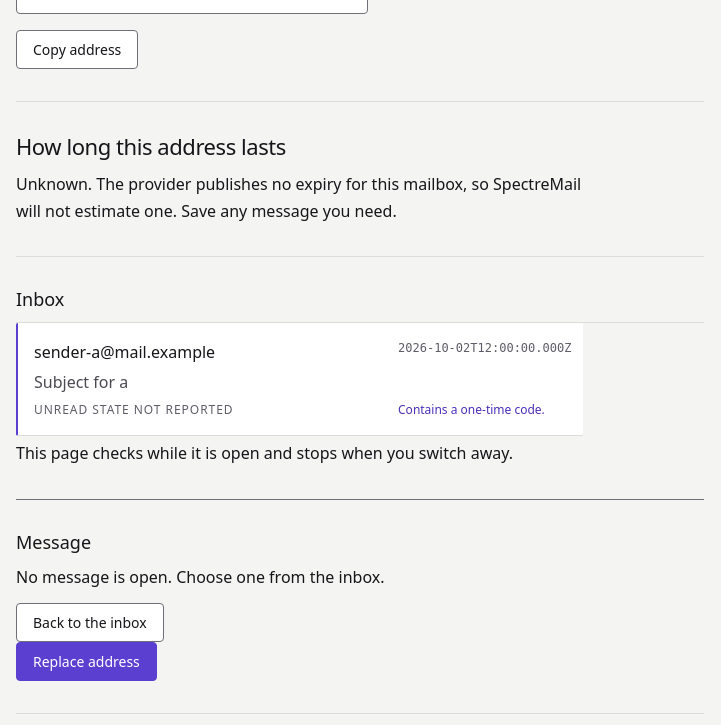
it: the message view › what the page found in a message › confirms a code was copied, and leaves the other codes saying nothing
(page scrolled)
Step 1. Click the button with test id "inbox-row-open" → coordinates (125, 352), box left=16, top=323, right=583, bottom=436
(page scrolled)
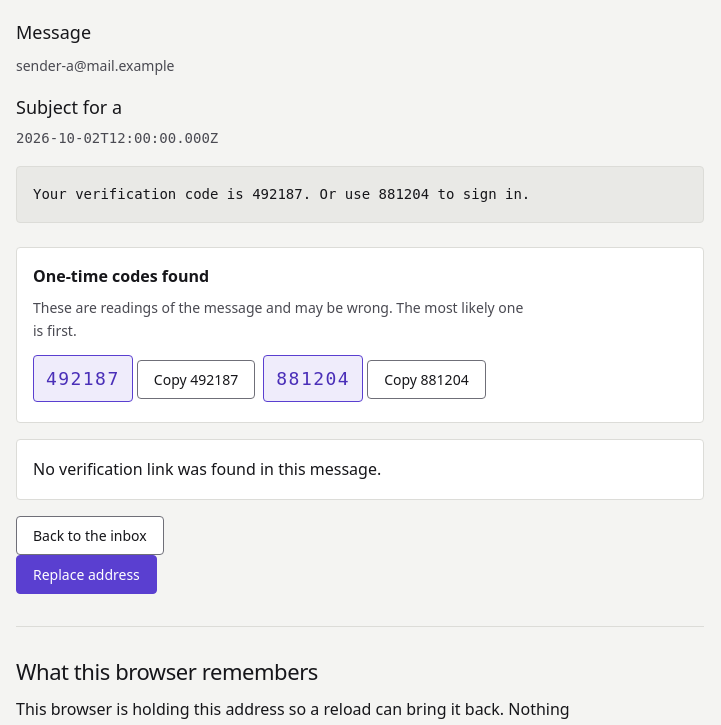
Check: the element with test id "message-opened" is shown, box left=16, top=54, right=704, bottom=500
Step 2. Click the button with test id "message-code-copy" showing "Copy 492187" → coordinates (196, 379), box left=137, top=360, right=255, bottom=398
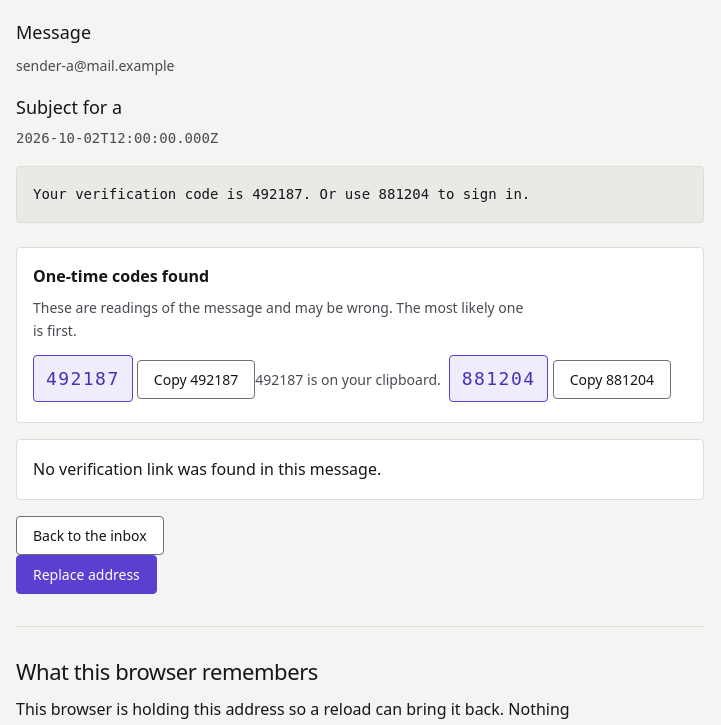
Check: the message with test id "message-code-status" shows "492187 is on your clipboard", box left=255, top=370, right=441, bottom=388
